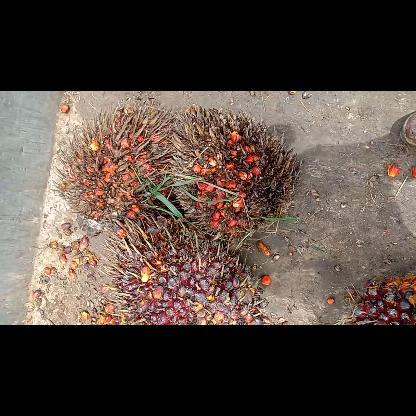TBS masak: (97, 216, 271, 324)
Terlalu masak: (170, 101, 302, 242), (49, 101, 176, 231)
